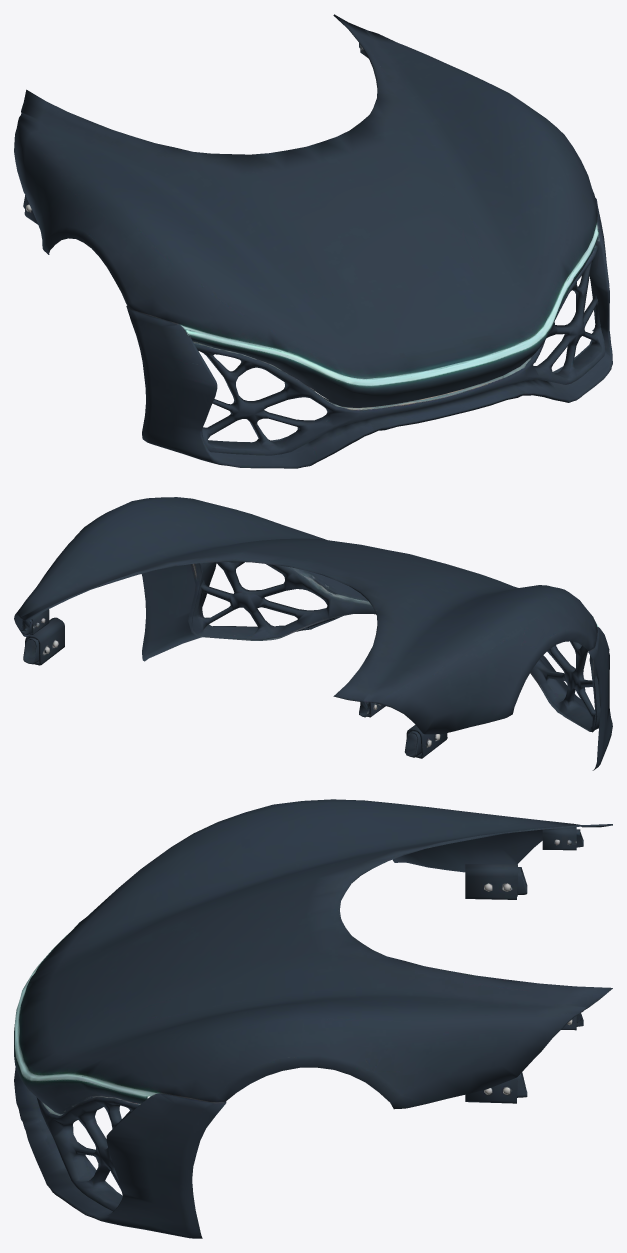
Rendered from original_glb.glb.
The picture shows the model from 3 angles, top to bottom: view 1: azimuth 30°, elevation 25°; view 2: azimuth 150°, elevation 25°; view 3: azimuth 270°, elevation 25°; orthographic projection. The views are drawn at different scales.
Parts seen in each view (by area): view 1: front access panel; view 2: front access panel; view 3: front access panel.
Part boxes in pixels (x1,y1,x2,y2): front access panel: (14, 14, 612, 468); front access panel: (14, 497, 612, 770); front access panel: (14, 799, 612, 1238).
Size of the model in its own units: 0.9785 by 0.3926 by 0.998.
Materials: 1 (1 with a texture image).
